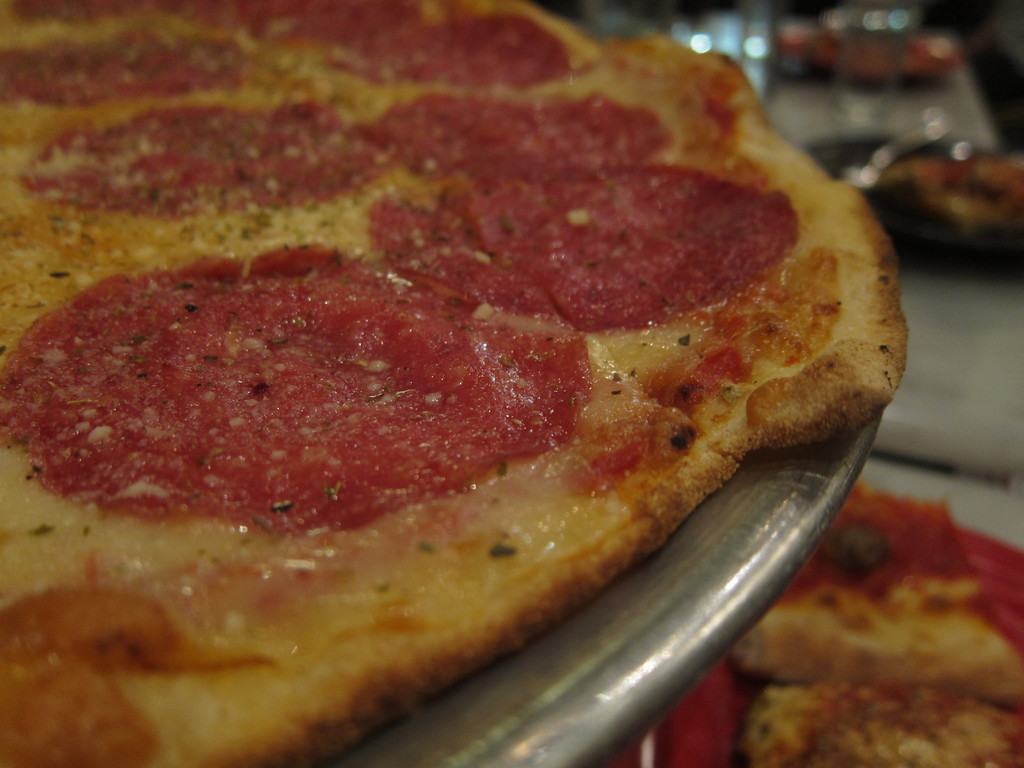Pizza: (8, 24, 917, 755)
